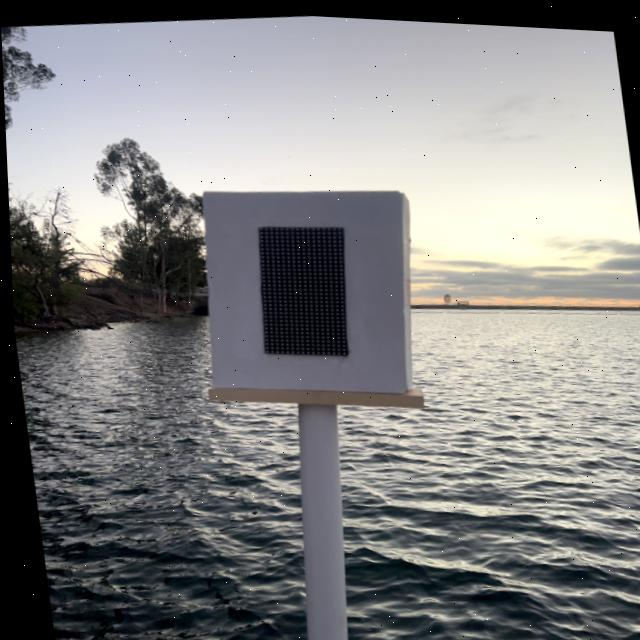led: (219, 184, 388, 393)
